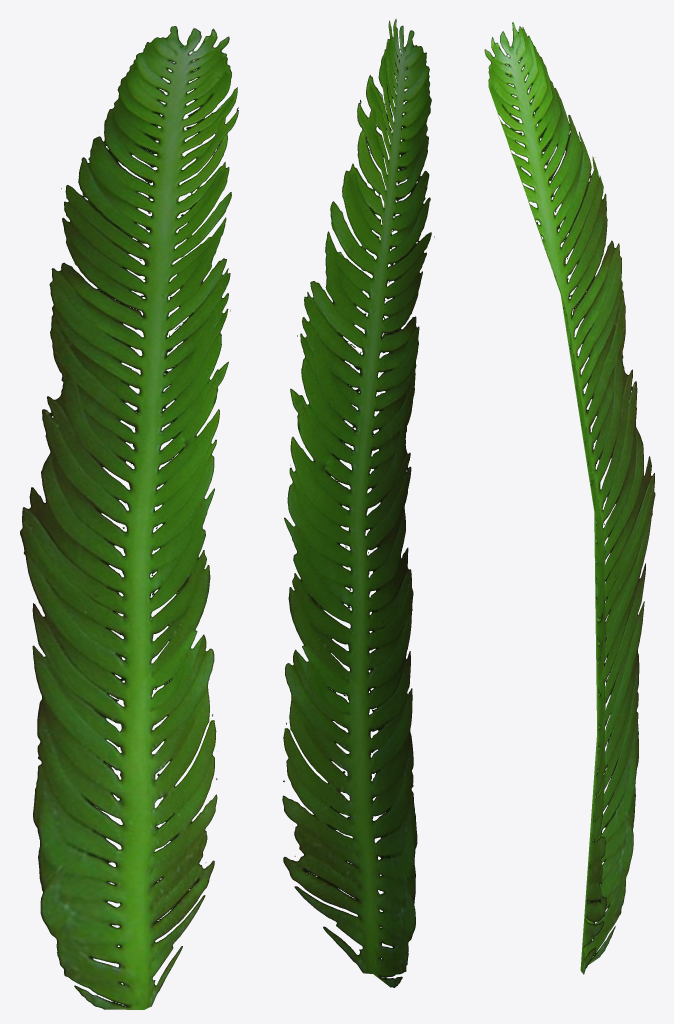
3 views of the same model, side by side, from view 1: azimuth 30°, elevation 25°; view 2: azimuth 150°, elevation 25°; view 3: azimuth 270°, elevation 25° (orthographic). The views are drawn at different scales.
Visible parts, largest first — view 1: Caulerpa_Taxifolia.005; view 2: Caulerpa_Taxifolia.005; view 3: Caulerpa_Taxifolia.005.
Part boxes in pixels (bbox=[...]): Caulerpa_Taxifolia.005: bbox=[20, 26, 238, 1009]; Caulerpa_Taxifolia.005: bbox=[282, 19, 434, 987]; Caulerpa_Taxifolia.005: bbox=[484, 22, 655, 974].
Bounding box in the file's own units: 0.0275 × 0.1458 × 0.0253.
1 material, 1 textured.
